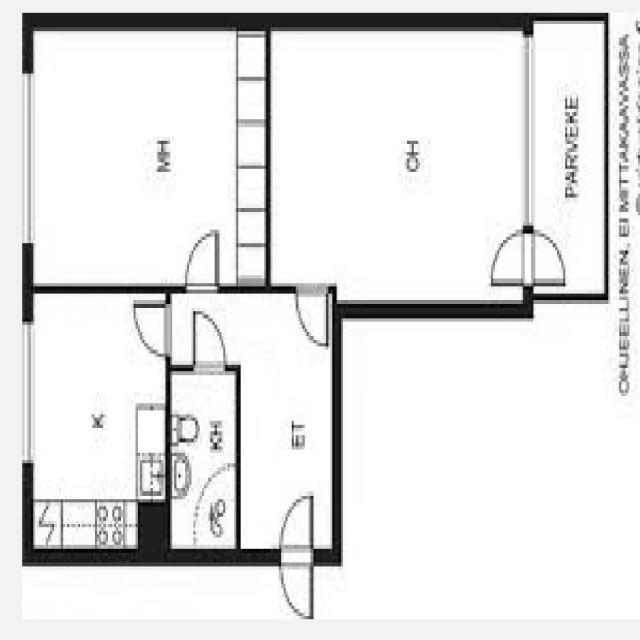door: (262, 489, 324, 625), (478, 210, 572, 289), (175, 222, 232, 300), (187, 304, 234, 382), (131, 297, 177, 373), (291, 272, 331, 353)
window: (514, 27, 547, 235), (10, 66, 40, 250), (18, 309, 40, 486)
zone: (263, 20, 533, 311), (28, 22, 268, 292), (24, 290, 163, 556), (241, 298, 335, 556), (165, 364, 236, 558)
